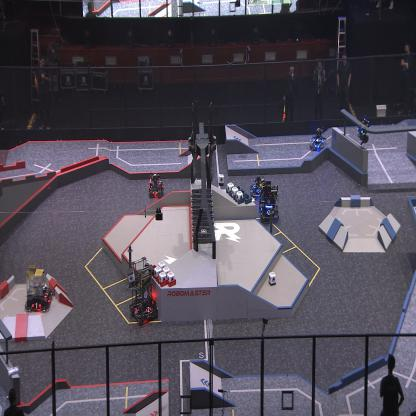car: (128, 257, 159, 325), (25, 264, 53, 313), (259, 179, 281, 222), (148, 172, 166, 199), (308, 126, 326, 151), (250, 175, 264, 198)
